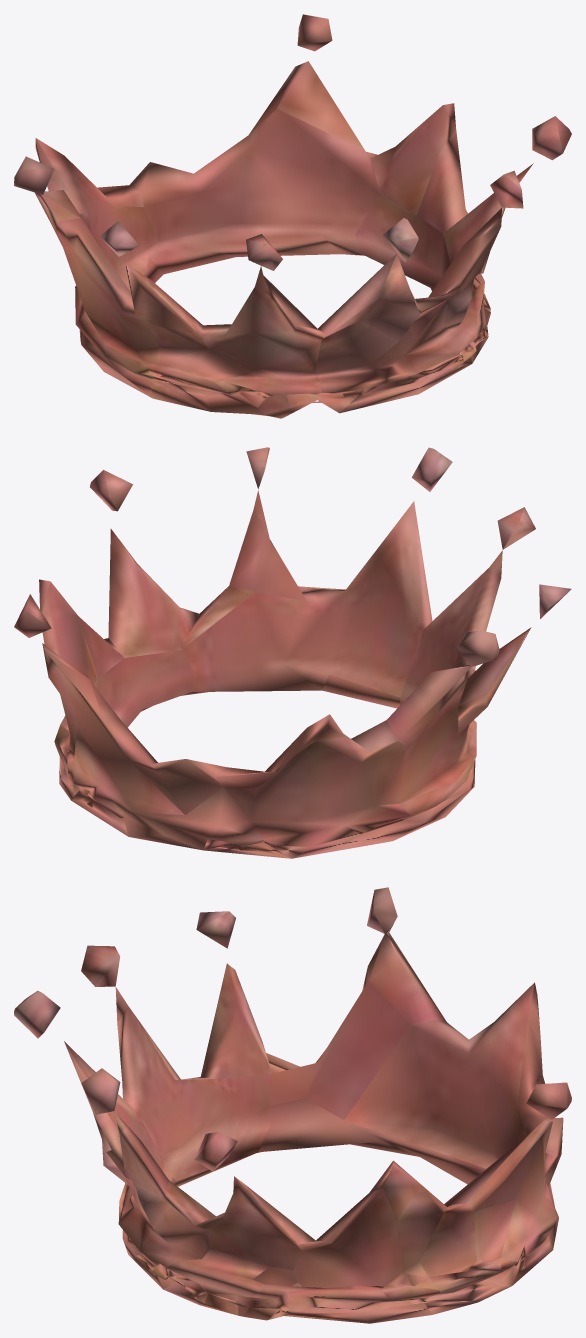
3 views of the same model, one above another, from view 1: azimuth 30°, elevation 25°; view 2: azimuth 150°, elevation 25°; view 3: azimuth 270°, elevation 25° (orthographic). The views are drawn at different scales.
Visible parts, largest first — view 1: Pink-Crown-22; view 2: Pink-Crown-22; view 3: Pink-Crown-22.
Part boxes in pixels (left/top/right/bottom): Pink-Crown-22: left=14, top=14, right=571, bottom=418; Pink-Crown-22: left=14, top=447, right=571, bottom=858; Pink-Crown-22: left=14, top=887, right=571, bottom=1323.
Size of the model in its own units: 0.2775 by 0.1225 by 0.2646.
Materials: 1 (1 with a texture image).
